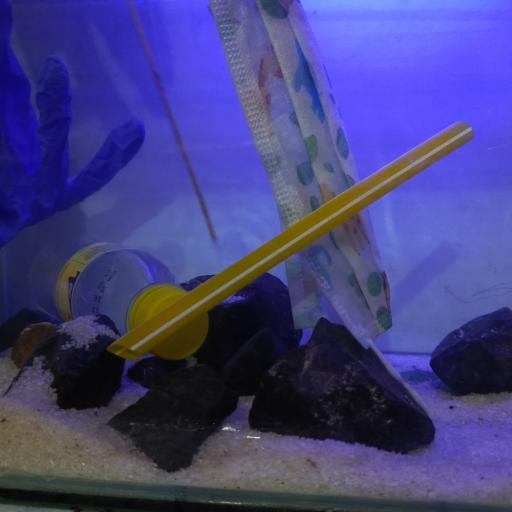bottle_cap: (140, 288, 206, 360)
glove: (1, 1, 146, 247)
mask: (207, 1, 394, 350)
plastic_bottle: (24, 239, 208, 360)
plastic_straw: (110, 119, 474, 359)
